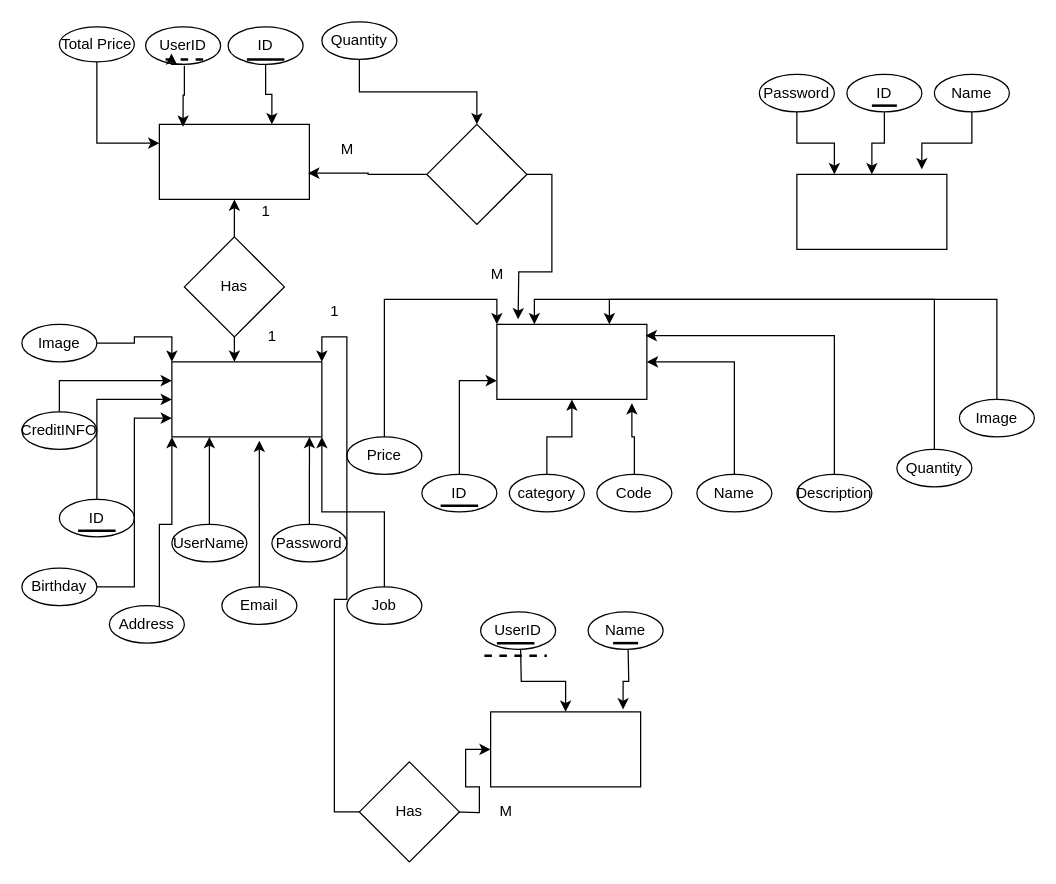
Image size: 1056x884. Some labels were removed from this diagram. The shapes that lost their labels are listed below. From the top down, each one's box as (x1, y1, x2, y2) in pixels, then its label:
(158, 123, 309, 199): Cart
(426, 123, 527, 224): Include
(796, 173, 947, 249): Admin
(496, 323, 647, 399): Product
(171, 361, 322, 437): Customer
(489, 711, 641, 787): Interests
